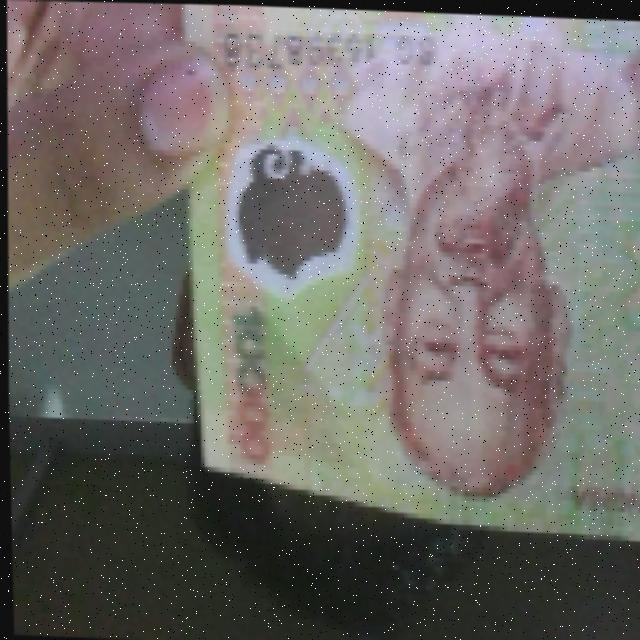10 000 VND: (170, 3, 640, 556)
